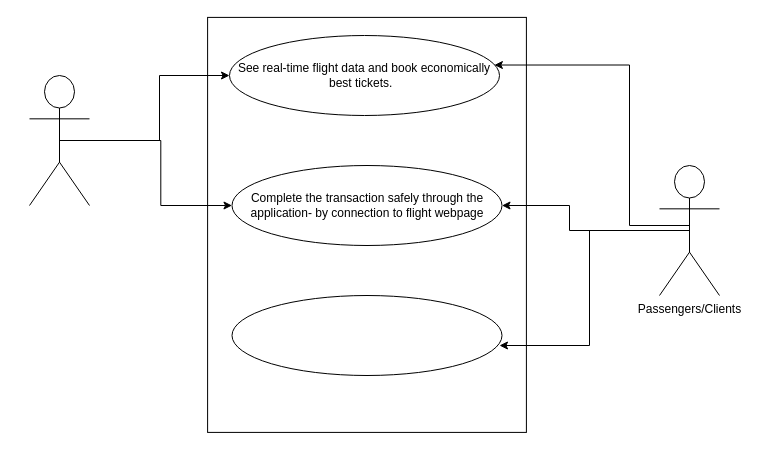
The diagram is 758 pixels wide and 450 high, and some of its shapes have lost their labels. Here are the shapes that lost their labels. From the top down, the box of each, then its label:
(28, 74, 90, 206): Travel Agencies
(231, 294, 502, 376): Receive an email confirmation once tickets are confirmed.
